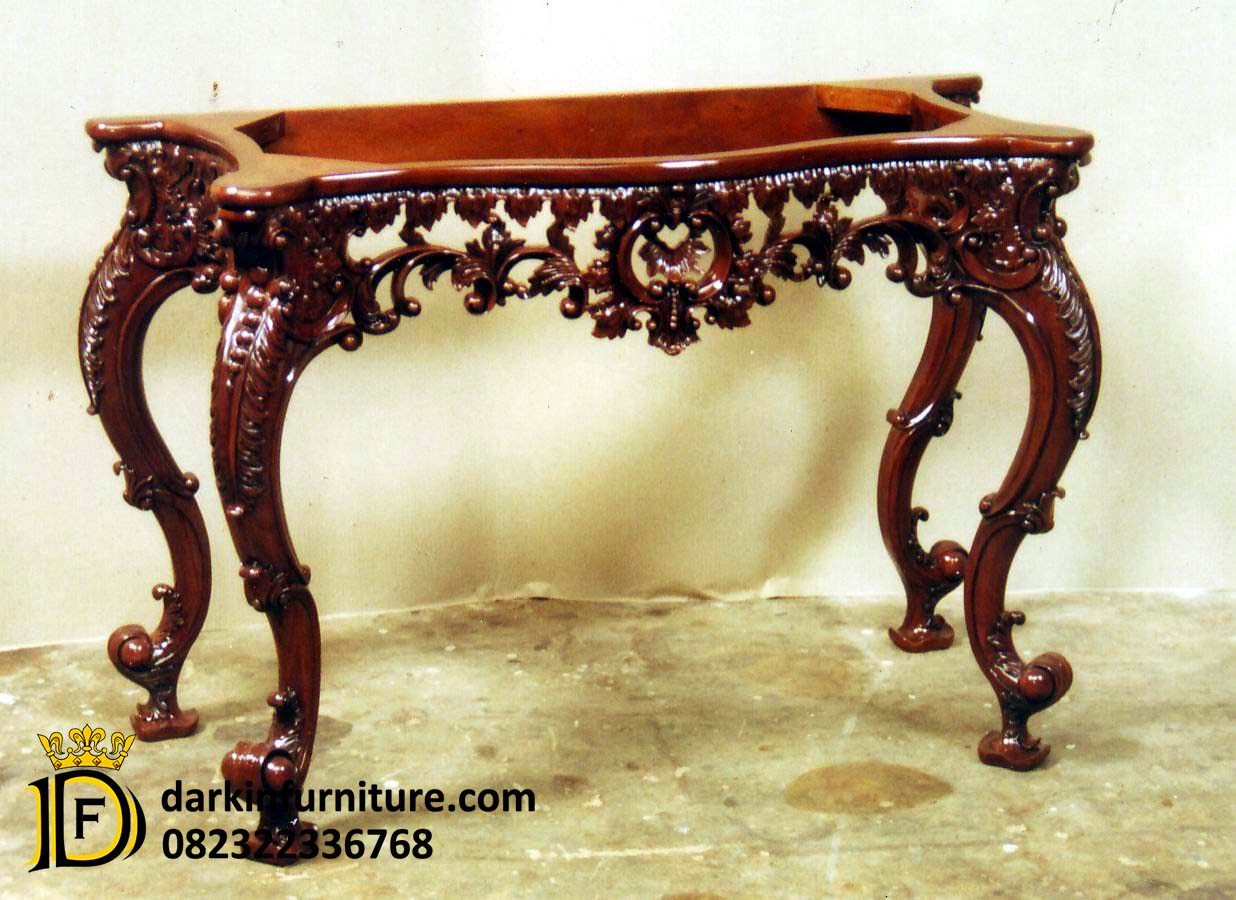Carving Table: (91, 89, 1134, 800)
